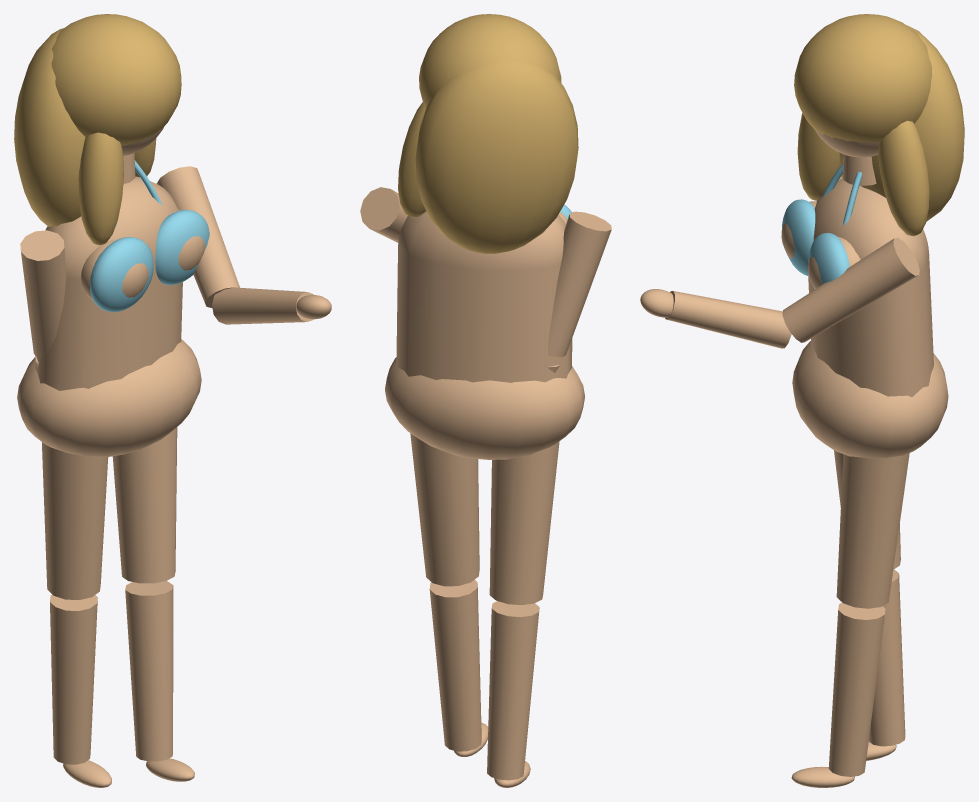
File: beach-character.glb
3 renders of one model, left to right at view 1: azimuth 30°, elevation 25°; view 2: azimuth 150°, elevation 25°; view 3: azimuth 270°, elevation 25°, orthographic.
Parts seen in each view (by area): view 1: BeachCharacter, object 3, object 4, object 15, object 13, object 7, object 5, object 10, object 11, object 14, object 16, object 12; view 2: BeachCharacter, object 4, object 13, object 15, object 3, object 7, object 6, object 10; view 3: BeachCharacter, object 3, object 15, object 10, object 4, object 6, object 13, object 11, object 5, object 16, object 2, object 12.
Part boxes in pixels (<box>): BeachCharacter: <box>17,153,209,599</box>; object 3: <box>51,14,181,145</box>; object 4: <box>14,28,85,226</box>; object 15: <box>125,581,173,761</box>; object 13: <box>50,594,97,764</box>; object 7: <box>20,230,66,359</box>; object 5: <box>78,132,123,245</box>; object 10: <box>156,166,239,307</box>; object 11: <box>212,287,313,324</box>; object 14: <box>63,760,111,787</box>; object 16: <box>146,758,194,781</box>; object 12: <box>296,295,331,319</box>; BeachCharacter: <box>385,204,584,605</box>; object 4: <box>415,59,578,253</box>; object 13: <box>487,601,539,780</box>; object 15: <box>429,579,481,751</box>; object 3: <box>419,14,561,109</box>; object 7: <box>547,211,611,357</box>; object 6: <box>398,102,426,217</box>; object 10: <box>360,187,407,242</box>; BeachCharacter: <box>781,154,948,608</box>; object 3: <box>794,14,931,142</box>; object 15: <box>828,602,885,776</box>; object 10: <box>782,237,919,342</box>; object 4: <box>839,25,964,221</box>; object 6: <box>878,120,929,236</box>; object 13: <box>869,569,905,746</box>; object 11: <box>665,291,791,348</box>; object 5: <box>797,113,840,200</box>; object 16: <box>791,766,854,787</box>; object 2: <box>815,129,879,157</box>; object 12: <box>640,289,673,317</box>.
Size of the model in its own units: 0.5326 by 1.77 by 0.6939.
